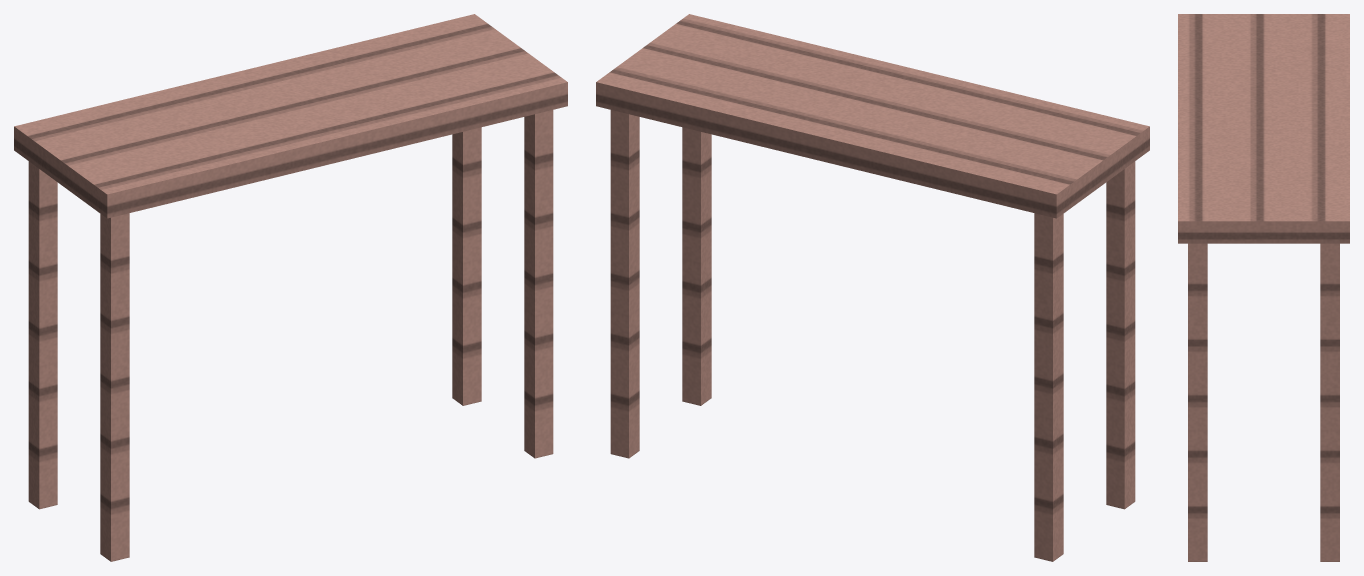
File: console_table.glb
3 renders of one model, left to right at view 1: azimuth 30°, elevation 25°; view 2: azimuth 150°, elevation 25°; view 3: azimuth 270°, elevation 25°, orthographic. The views are drawn at different scales.
Parts seen in each view (by area): view 1: console_table-col; view 2: console_table-col; view 3: console_table-col.
Boxes of the visible parts, x1=… form: console_table-col: x1=14, y1=14, x2=567, y2=561; console_table-col: x1=596, y1=14, x2=1149, y2=561; console_table-col: x1=1178, y1=14, x2=1349, y2=561.
Size of the model in its own units: 1 by 0.775 by 0.35.
Materials: 1 (1 with a texture image).
